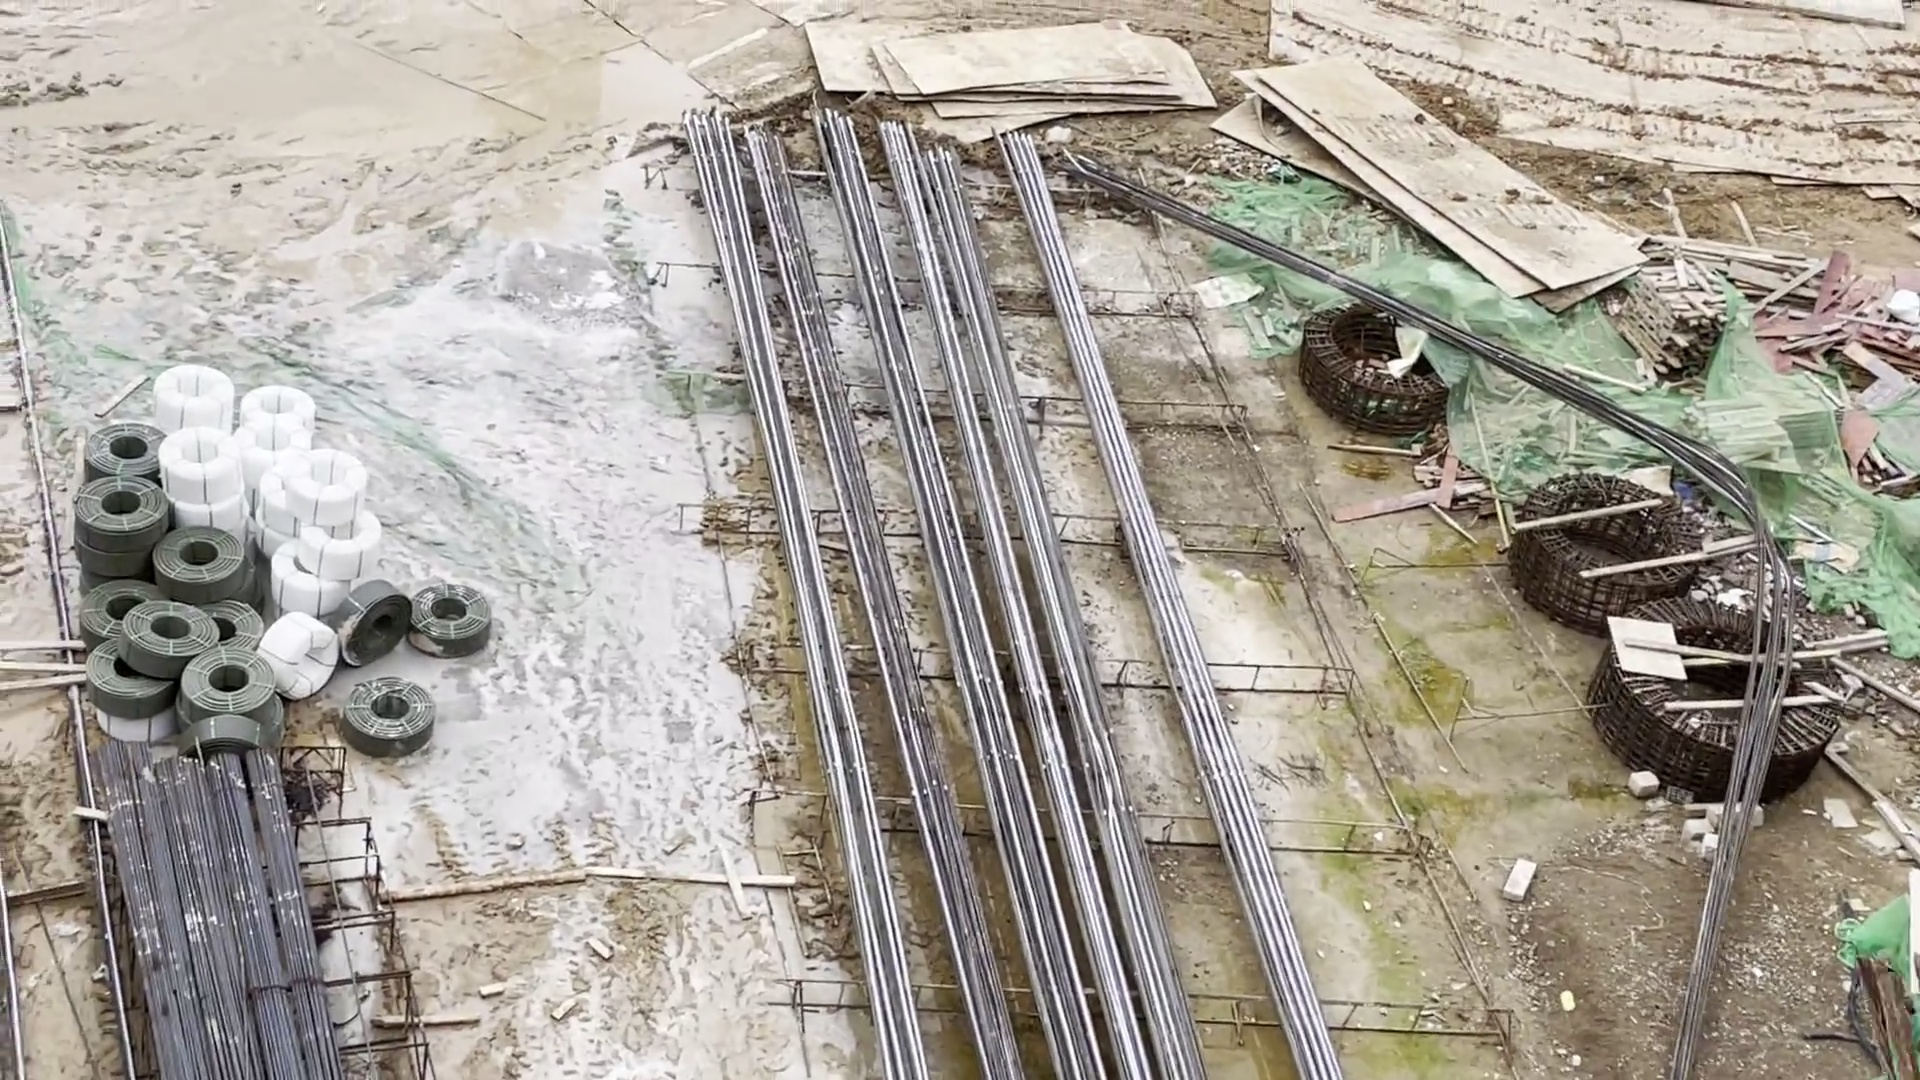board: (1774, 276, 1880, 377)
rebar: (680, 105, 1213, 1080), (80, 725, 357, 1079)
